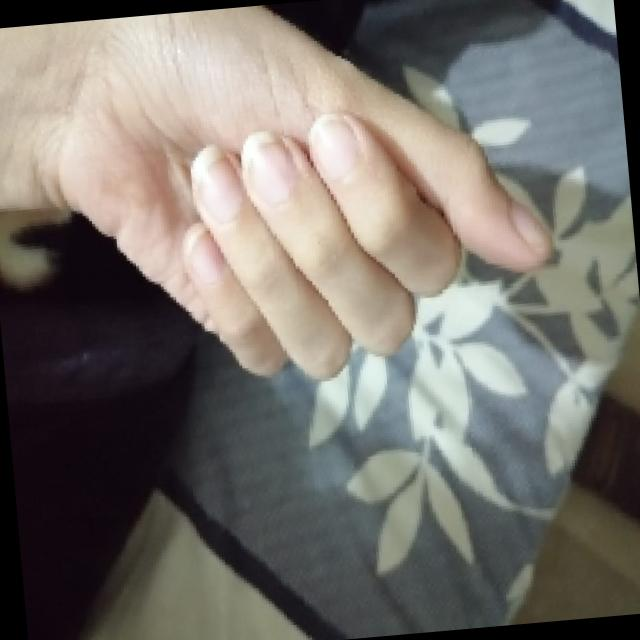Nail: (240, 130, 295, 204), (190, 144, 242, 222), (307, 113, 360, 179), (182, 223, 226, 282), (510, 203, 552, 251)
